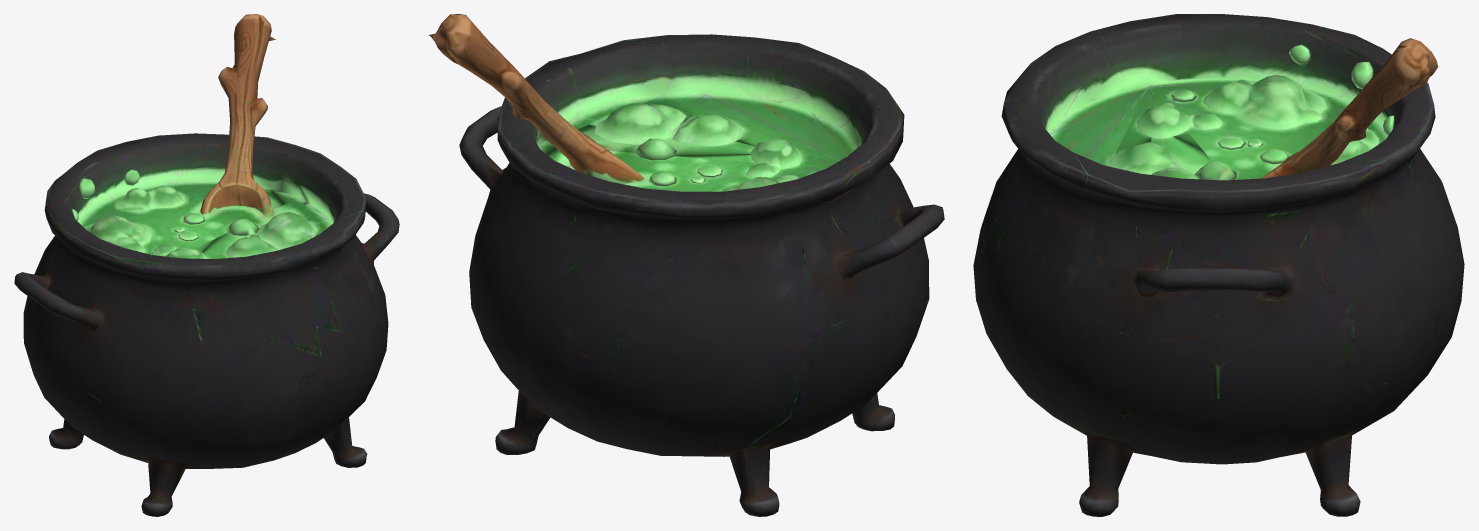
The model's file is cozy-cauldron.glb.
3 views of the same model, side by side, from view 1: azimuth 30°, elevation 25°; view 2: azimuth 150°, elevation 25°; view 3: azimuth 270°, elevation 25° (orthographic). The views are drawn at different scales.
Bounding box in the file's own units: 1.03 × 1 × 0.9217.
1 material, 1 textured.
